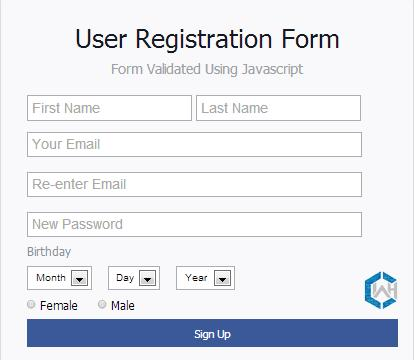button: (25, 316, 403, 352)
dropdown: (169, 261, 241, 293), (102, 262, 165, 295), (25, 264, 93, 291)
radiobutton: (24, 296, 39, 312), (97, 297, 111, 312)
